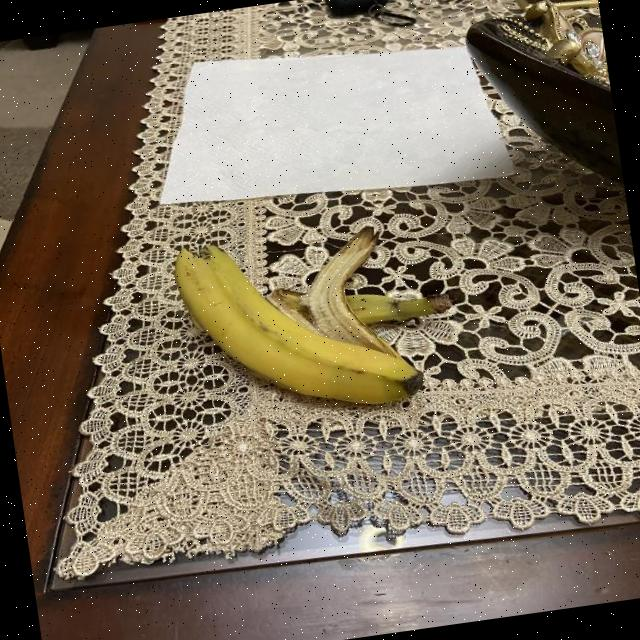banana-peel: (170, 208, 463, 432)
